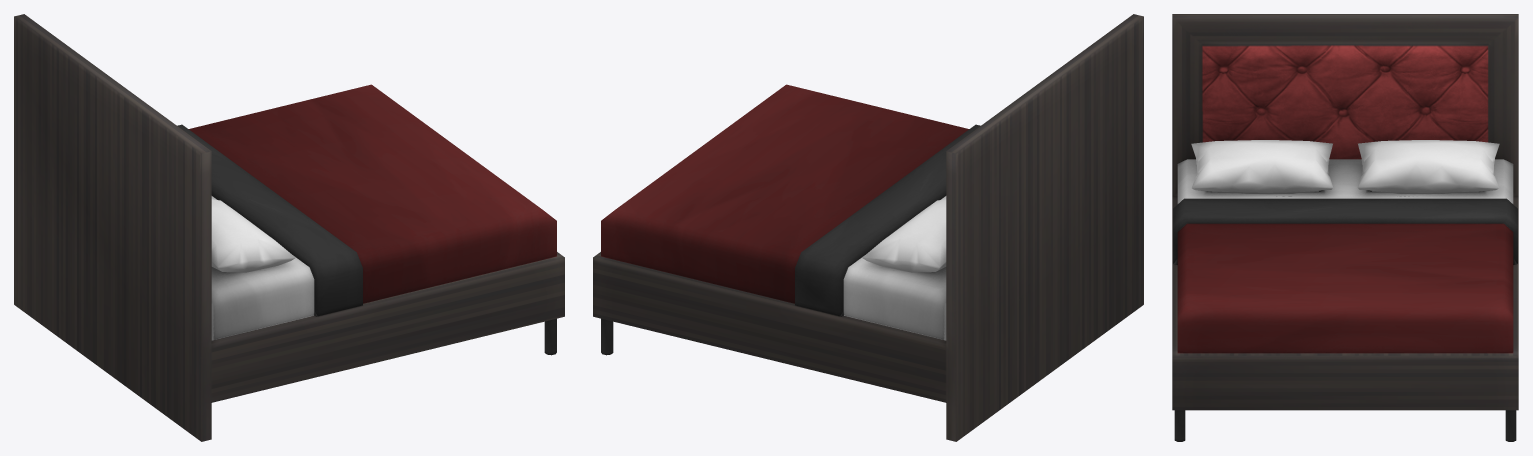
File: bed1.glb
3 renders of one model, left to right at view 1: azimuth 30°, elevation 25°; view 2: azimuth 150°, elevation 25°; view 3: azimuth 270°, elevation 25°, orthographic. The views are drawn at different scales.
Visible parts, largest first — view 1: Object_44.001; view 2: Object_44.001; view 3: Object_44.001.
Boxes of the visible parts, <box> form: Object_44.001: <box>14,14,564,441</box>; Object_44.001: <box>593,14,1143,441</box>; Object_44.001: <box>1172,14,1518,441</box>.
Bounding box in the file's own units: 1.55 × 1.18 × 1.39.
1 material, 1 textured.
